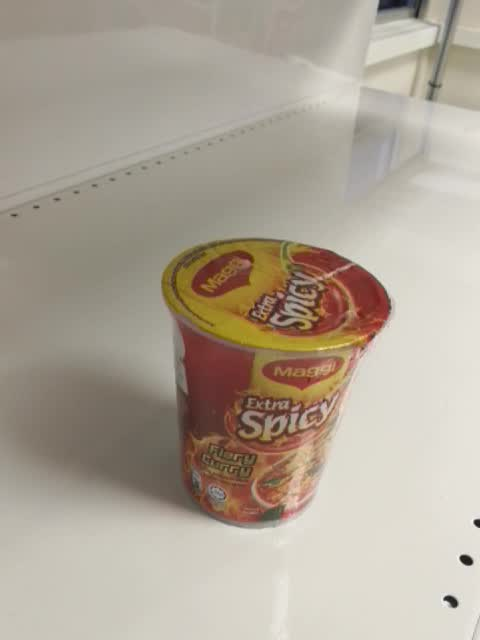maggi: (160, 237, 394, 530)
